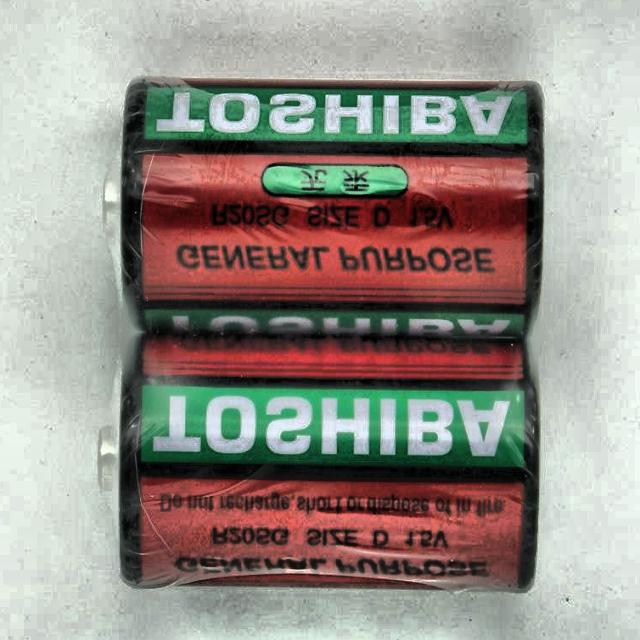Non-Valuable Waste - Batteries: (121, 79, 543, 587)
